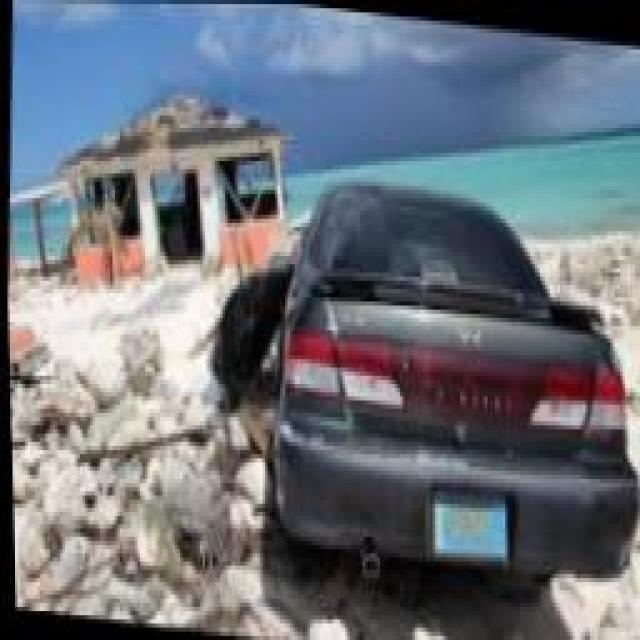Bumper: (270, 421, 631, 606)
